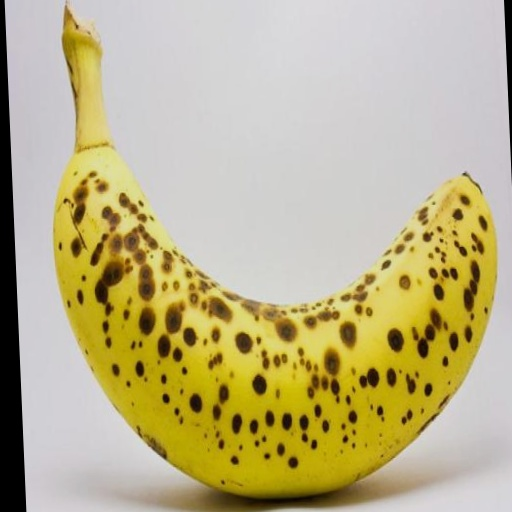fruit: (54, 7, 496, 497)
